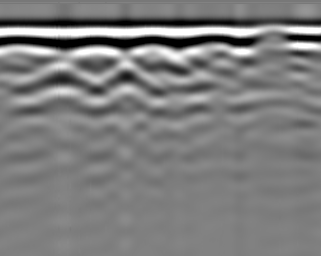pipe: (249, 26, 296, 48)
steel: (36, 64, 88, 104), (105, 66, 157, 102)
